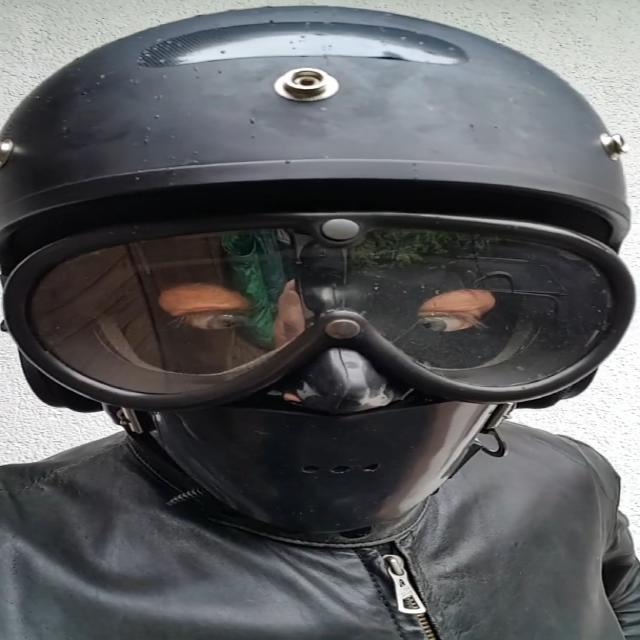Helmet_Wearer: (12, 1, 616, 535)
Jacket_Wearer: (0, 377, 640, 640)
Person: (0, 10, 640, 640)
